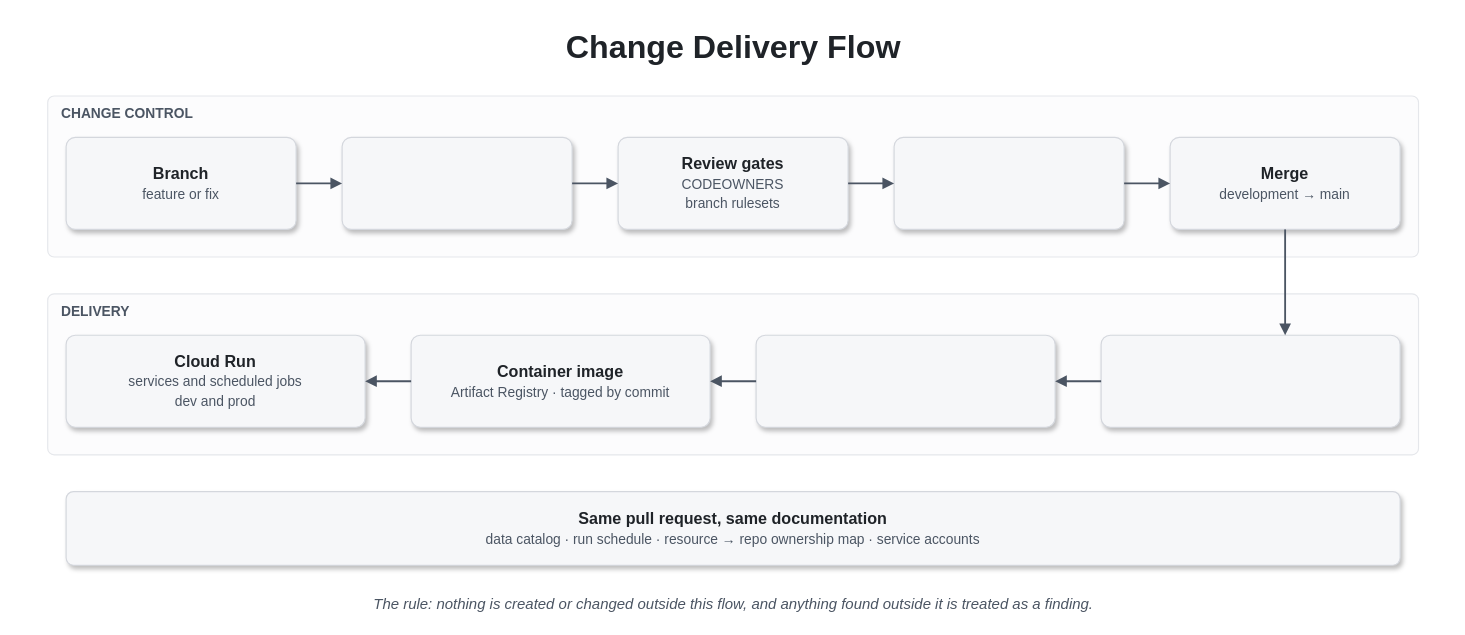
Image size: 1465x635. Some labels were removed from this diagram. Each missing label, with the centre of its shape:
"CI verification build · dependency audit" goes at point (1009, 184).
"GitHub Actions deploy workflow per component" goes at point (1251, 382).
"Keyless authentication Workload Identity Federation short-lived tokens" goes at point (906, 382).
"Pull request the only path to change" goes at point (457, 184).
